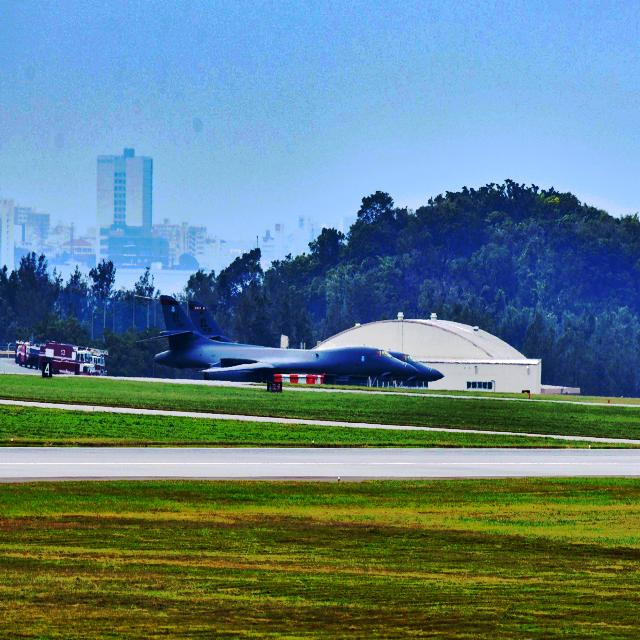Aircraft: (153, 292, 424, 392), (184, 293, 445, 388)
